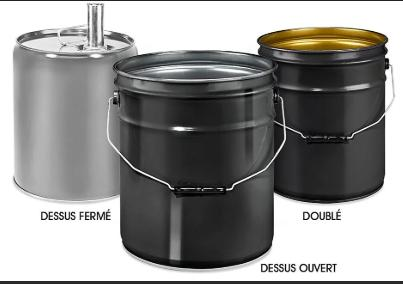SEAU: (0, 0, 383, 276)
